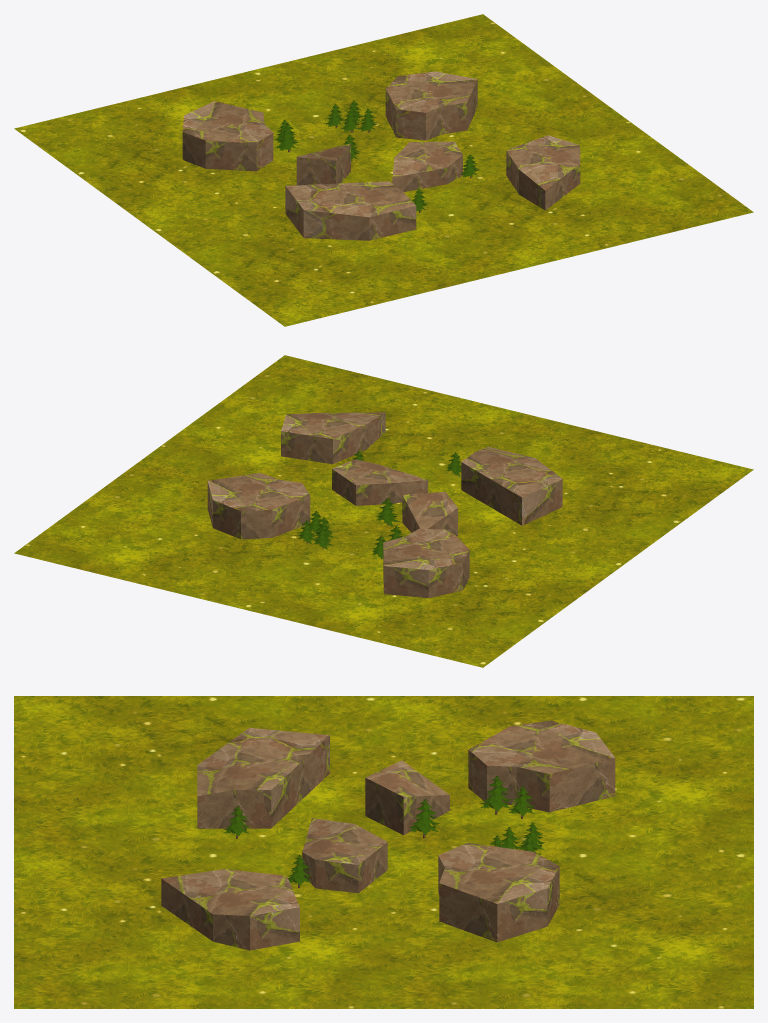
File: TL_dream_map.glb
The picture shows the model from 3 angles, top to bottom: view 1: azimuth 30°, elevation 25°; view 2: azimuth 150°, elevation 25°; view 3: azimuth 270°, elevation 25°; orthographic projection. The views are drawn at different scales.
Visible parts, largest first — view 1: Plane, Cube, Cube.002, Cube.005, Cube.004, Cube.003, Cube.001; view 2: Plane, Cube.002, Cube, Cube.005, Cube.004, Cube.003, Cube.001; view 3: Plane, Cube, Cube.005, Cube.002, Cube.004, Cube.003, Cube.001, Pine_2, Pine_2.001.
Part boxes in pixels (x1,y1,x2,y2): Plane: [14, 14, 753, 326]; Cube: [285, 181, 416, 240]; Cube.002: [385, 71, 477, 140]; Cube.005: [182, 101, 273, 171]; Cube.004: [506, 135, 580, 210]; Cube.003: [392, 141, 462, 191]; Cube.001: [296, 143, 350, 185]; Plane: [14, 355, 753, 667]; Cube.002: [207, 473, 310, 539]; Cube: [461, 446, 562, 525]; Cube.005: [383, 528, 469, 597]; Cube.004: [281, 412, 385, 464]; Cube.003: [332, 459, 428, 505]; Cube.001: [402, 491, 457, 536]; Plane: [14, 696, 753, 1008]; Cube: [197, 727, 329, 828]; Cube.005: [468, 720, 615, 812]; Cube.002: [438, 843, 559, 942]; Cube.004: [161, 869, 299, 950]; Cube.003: [302, 818, 387, 893]; Cube.001: [365, 760, 449, 835]; Pine_2: [408, 799, 439, 838]; Pine_2.001: [480, 775, 511, 814].
Bounding box in the file's own units: 2.62 × 0.2881 × 2.62.
Materials: 4 (4 with a texture image).
